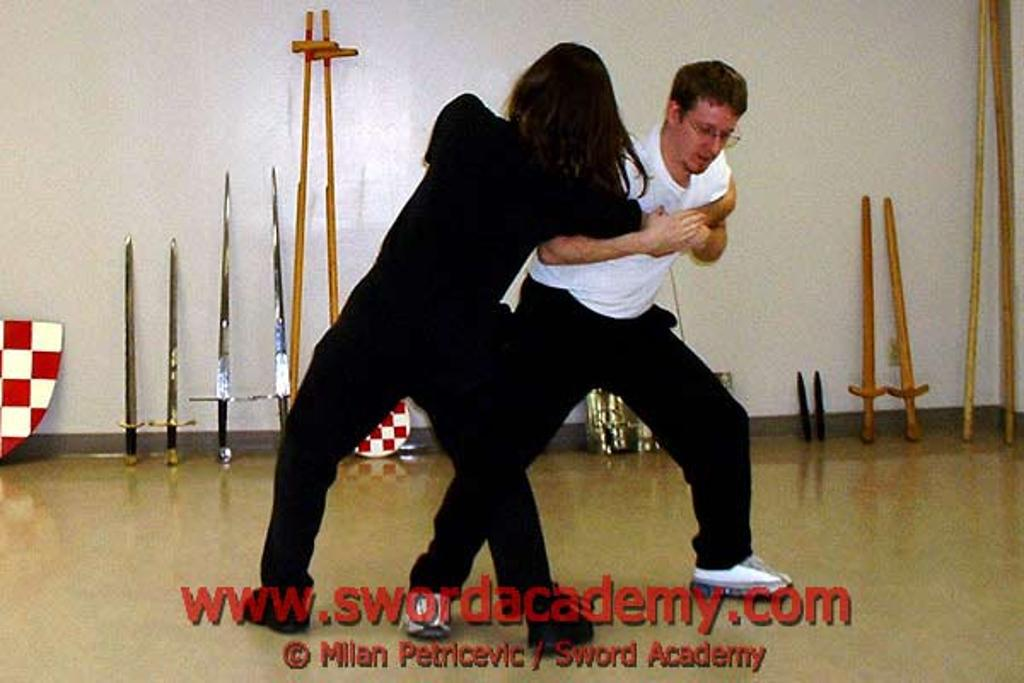face: (687, 101, 741, 175)
